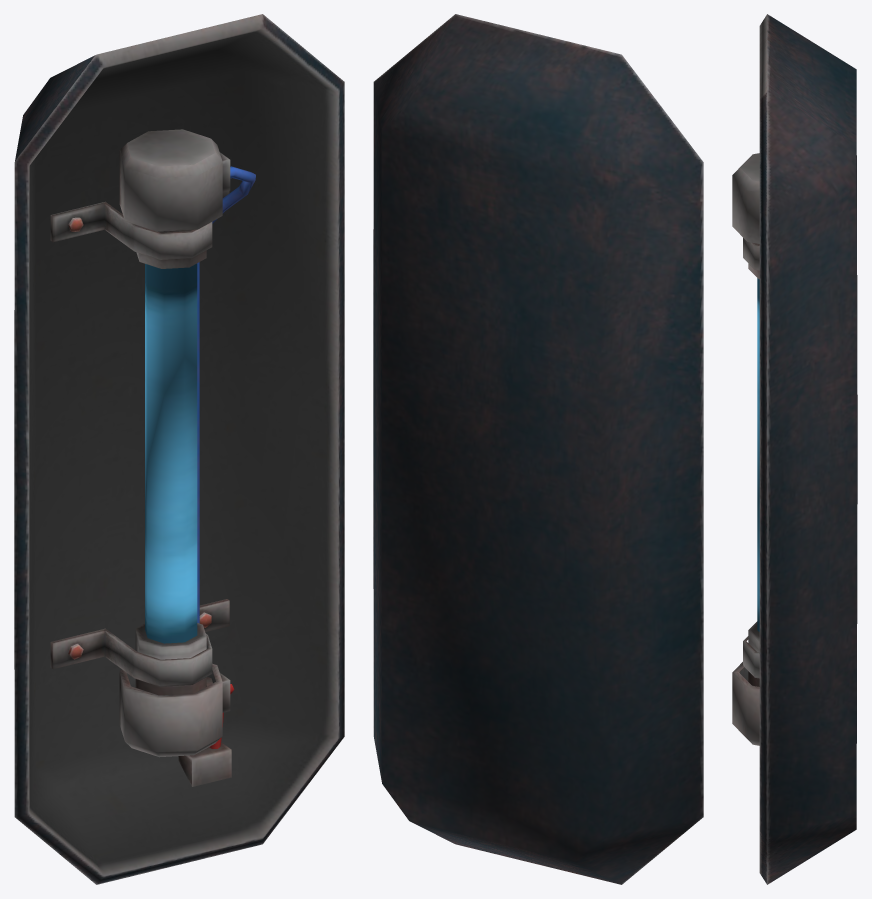
The model's file is hd_modernStreetLamp_a_main.glb.
3 renders of one model, left to right at view 1: azimuth 30°, elevation 25°; view 2: azimuth 150°, elevation 25°; view 3: azimuth 270°, elevation 25°, orthographic. The views are drawn at different scales.
Visible parts, largest first — view 1: hd_modernStreetLamp_a_Albedo.jpg__; view 2: hd_modernStreetLamp_a_Albedo.jpg__; view 3: hd_modernStreetLamp_a_Albedo.jpg__.
Boxes of the visible parts, x1,y1,x2,y2 form: hd_modernStreetLamp_a_Albedo.jpg__: (14, 14, 344, 884); hd_modernStreetLamp_a_Albedo.jpg__: (373, 14, 703, 884); hd_modernStreetLamp_a_Albedo.jpg__: (732, 14, 857, 884).
Bounding box in the file's own units: 2.57 × 6.16 × 0.8795.
1 material, 1 textured.
